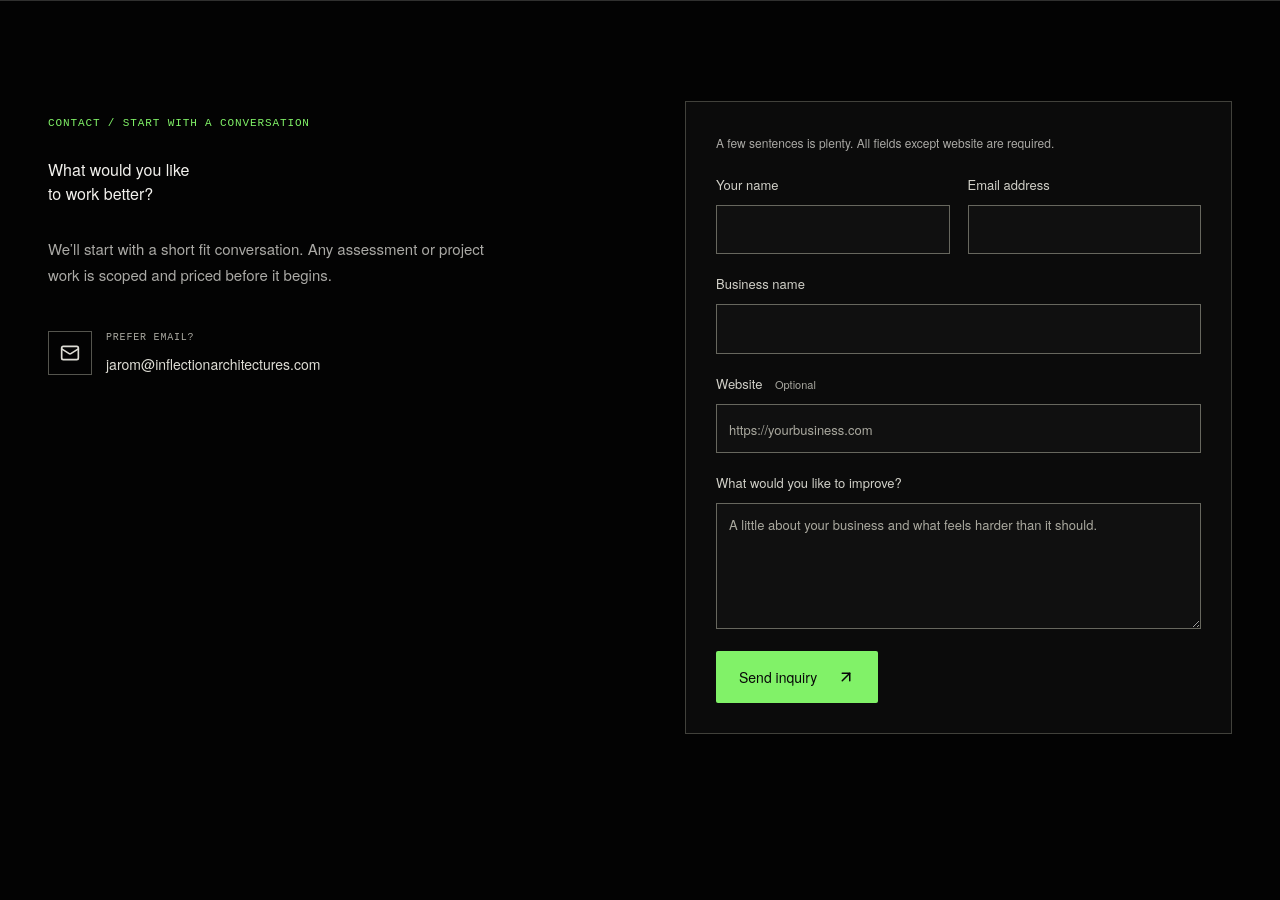
Test: business inquiry › does not treat HTTP 200 with success=false as acceptance
The width and height of the screenshot is (1280, 900).
Type " Test Owner " into the field labelled "Your name" at (833, 230), box left=716, top=205, right=950, bottom=254
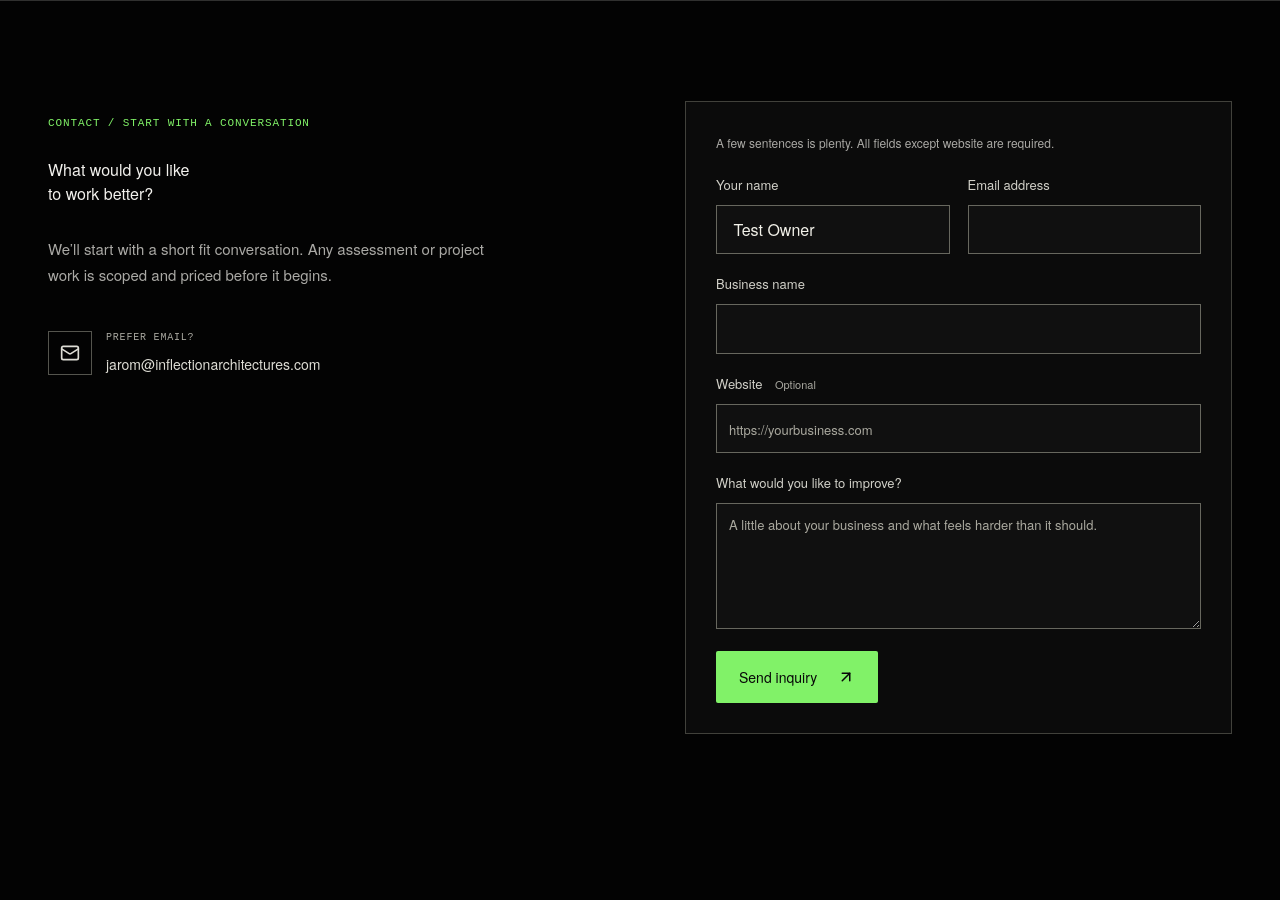
Type "owner@example.com" into the field labelled "Email address" at (1084, 230), box left=968, top=205, right=1201, bottom=254
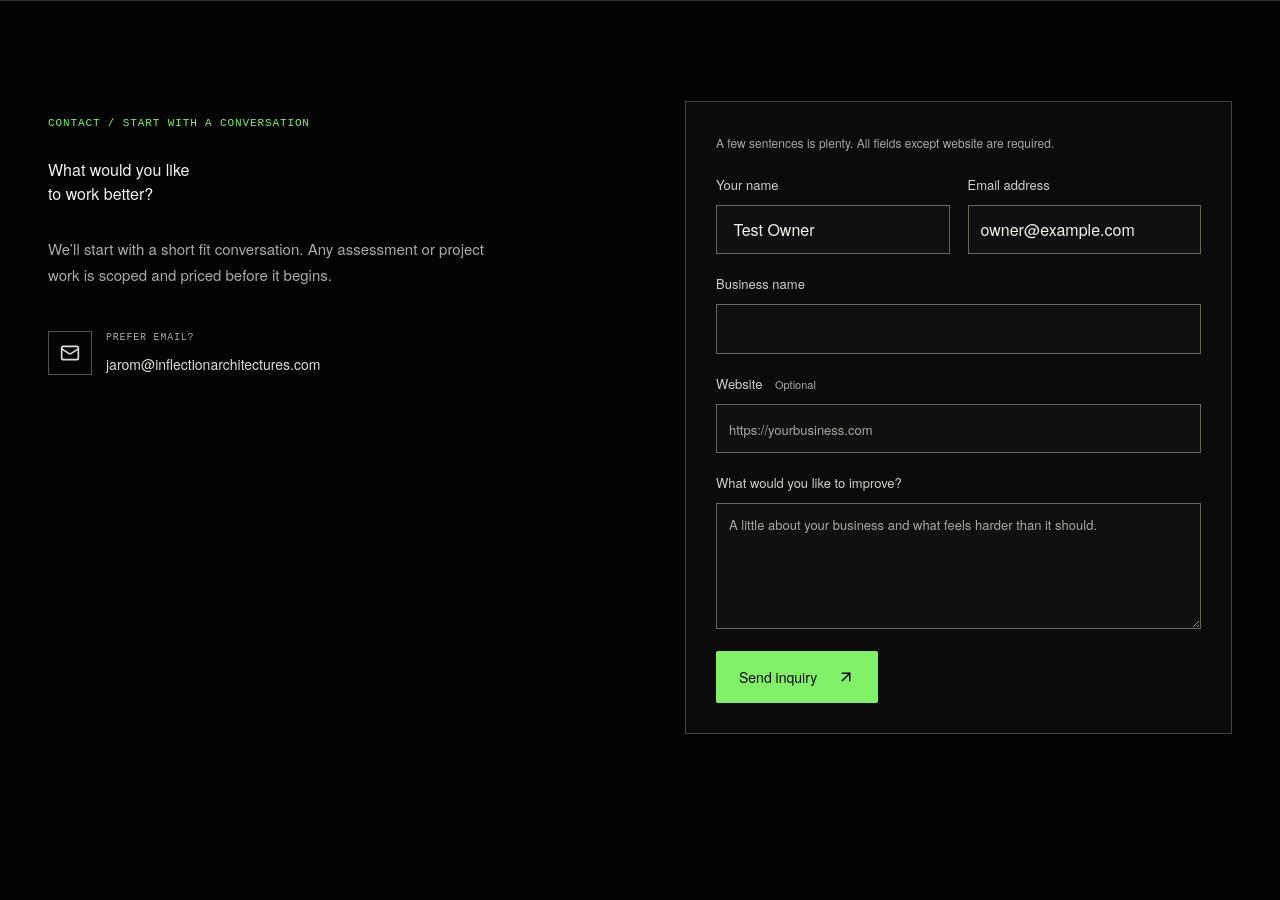
Type "Example Services" into the field labelled "Business name" at (958, 329), box left=716, top=304, right=1201, bottom=354
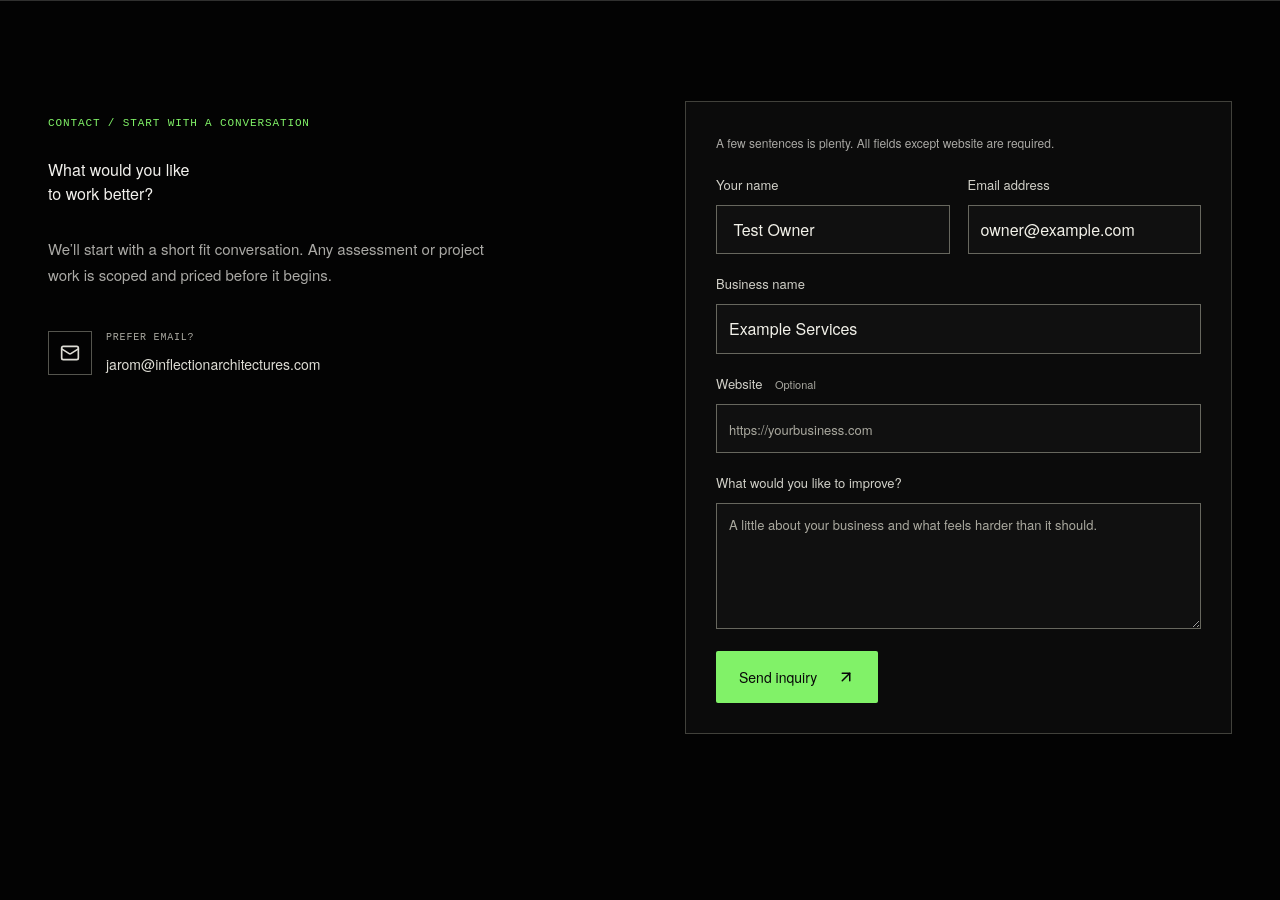
Replace the text in the text box labelled "What would you like to improve?" with "Understand our quoting workflow." at (958, 566), box left=716, top=503, right=1201, bottom=629
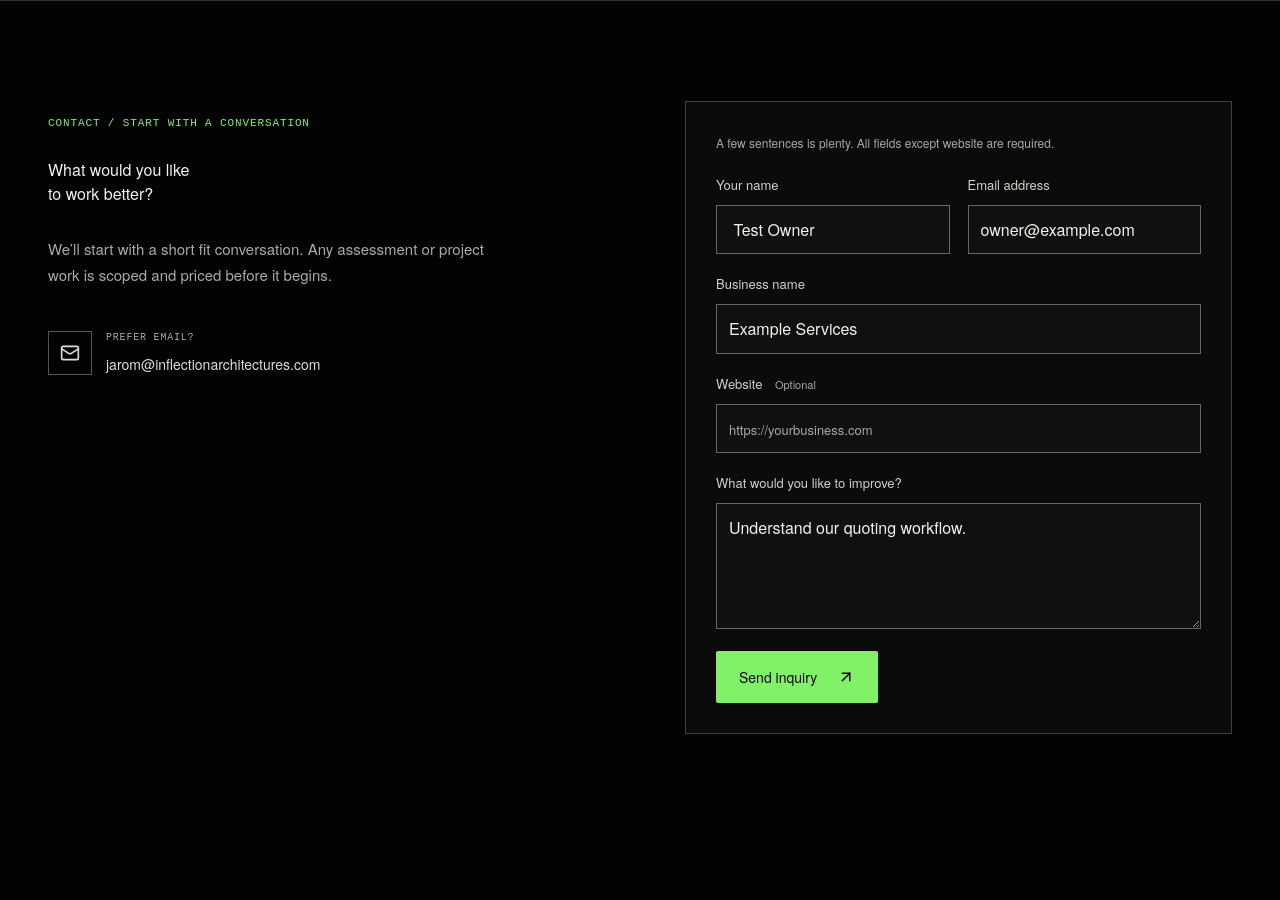
Click the button "Send inquiry" at (797, 677), box left=716, top=651, right=878, bottom=703
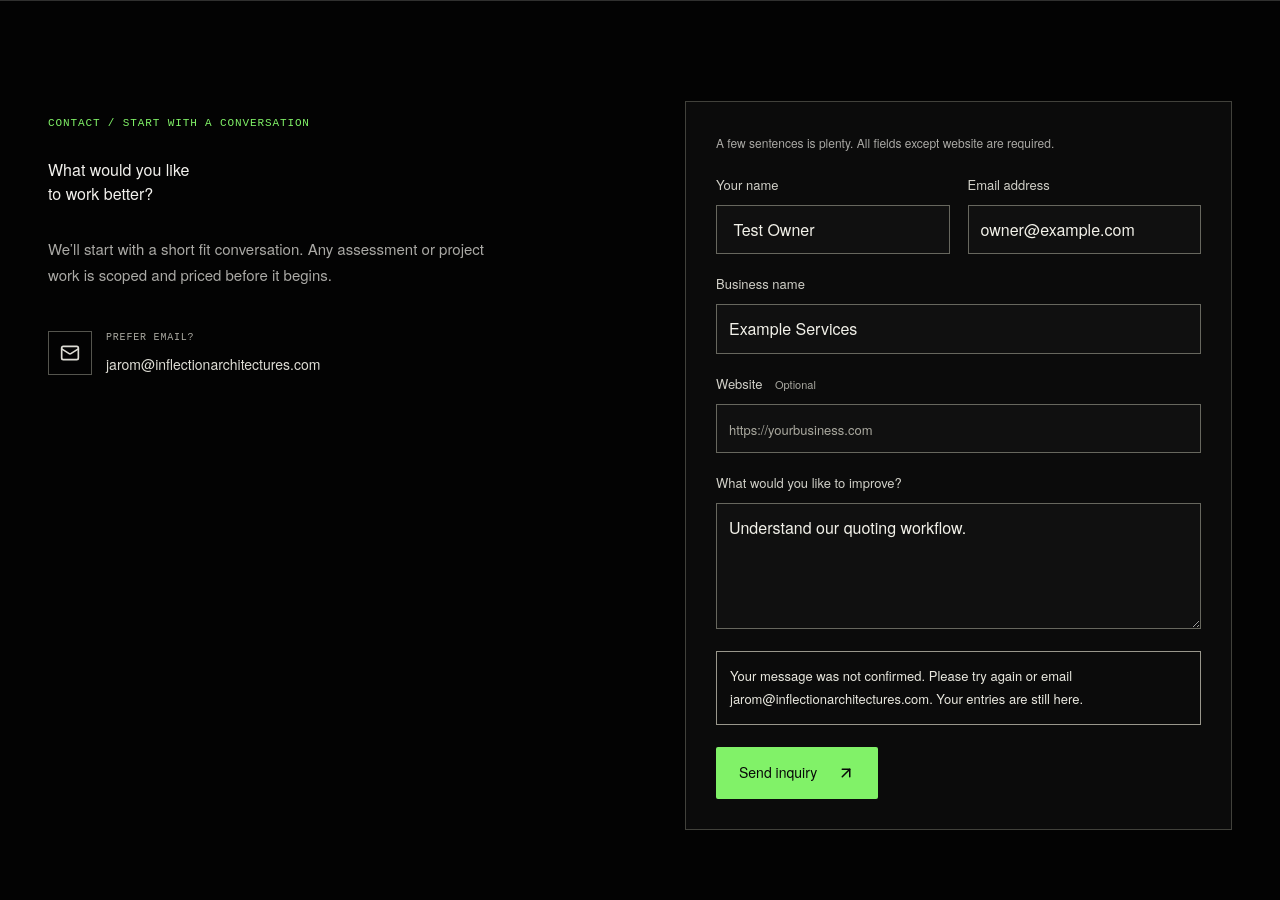
Expected: the message shows "not confirmed", left=730, top=666, right=1041, bottom=685
